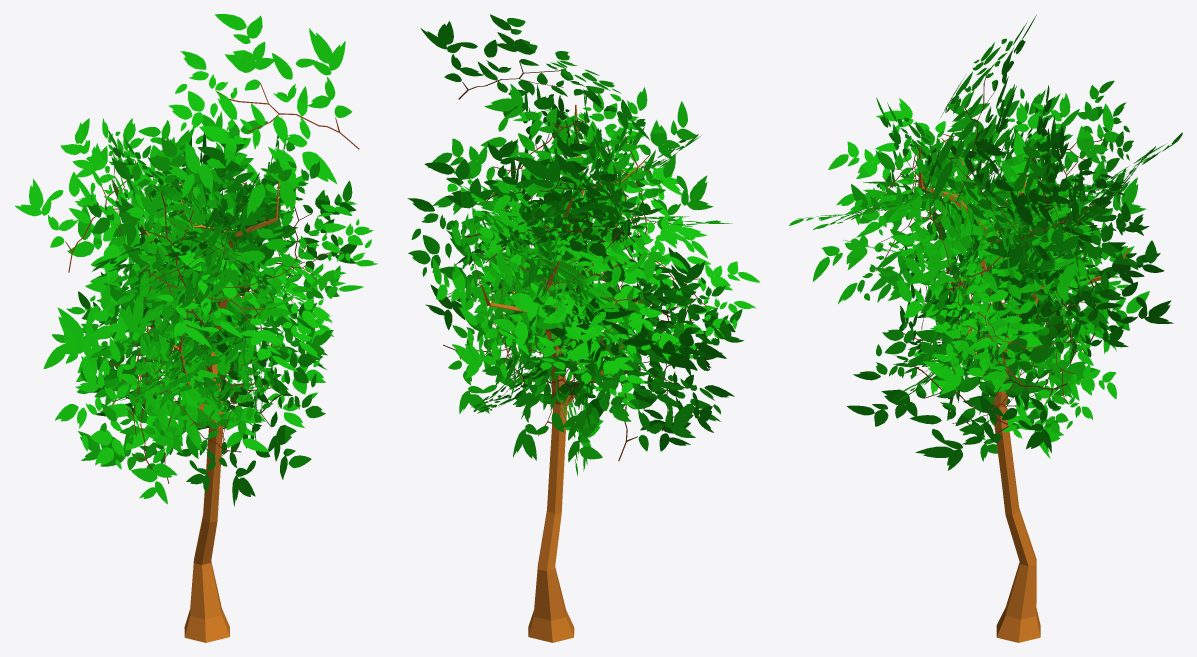
File: tree.fbx
3 views of the same model, side by side, from view 1: azimuth 30°, elevation 25°; view 2: azimuth 150°, elevation 25°; view 3: azimuth 270°, elevation 25° (orthographic). The views are drawn at different scales.
Visible parts, largest first — view 1: tree; view 2: tree; view 3: tree.
Boxes of the visible parts, <box> form: tree: <box>15,14,378,642</box>; tree: <box>407,14,759,642</box>; tree: <box>789,15,1182,642</box>.
Size of the model in its own units: 952 by 1824 by 1039.
